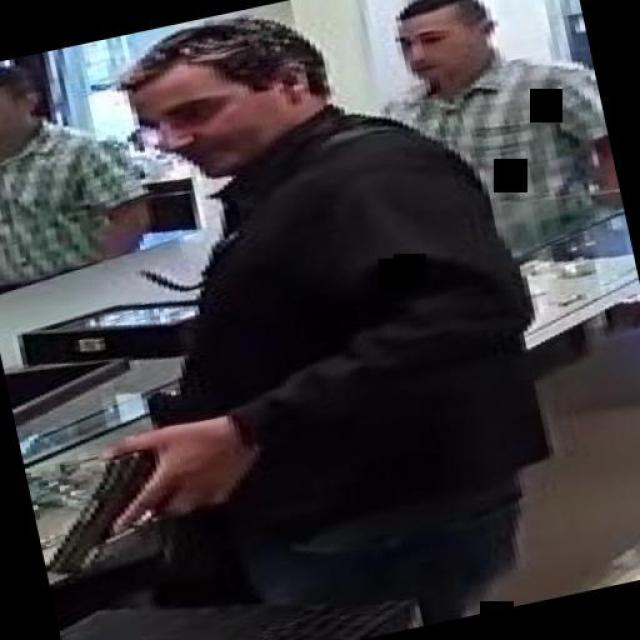gun: (22, 418, 238, 578)
